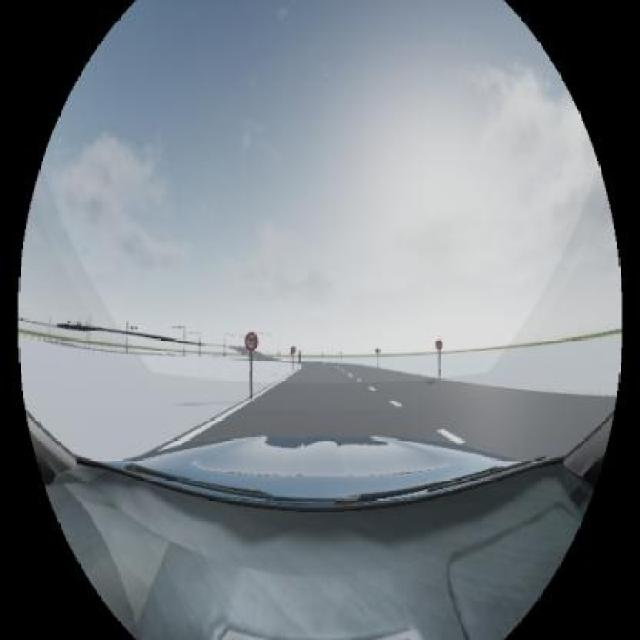forb_speed_over_70: (245, 332, 259, 352)
